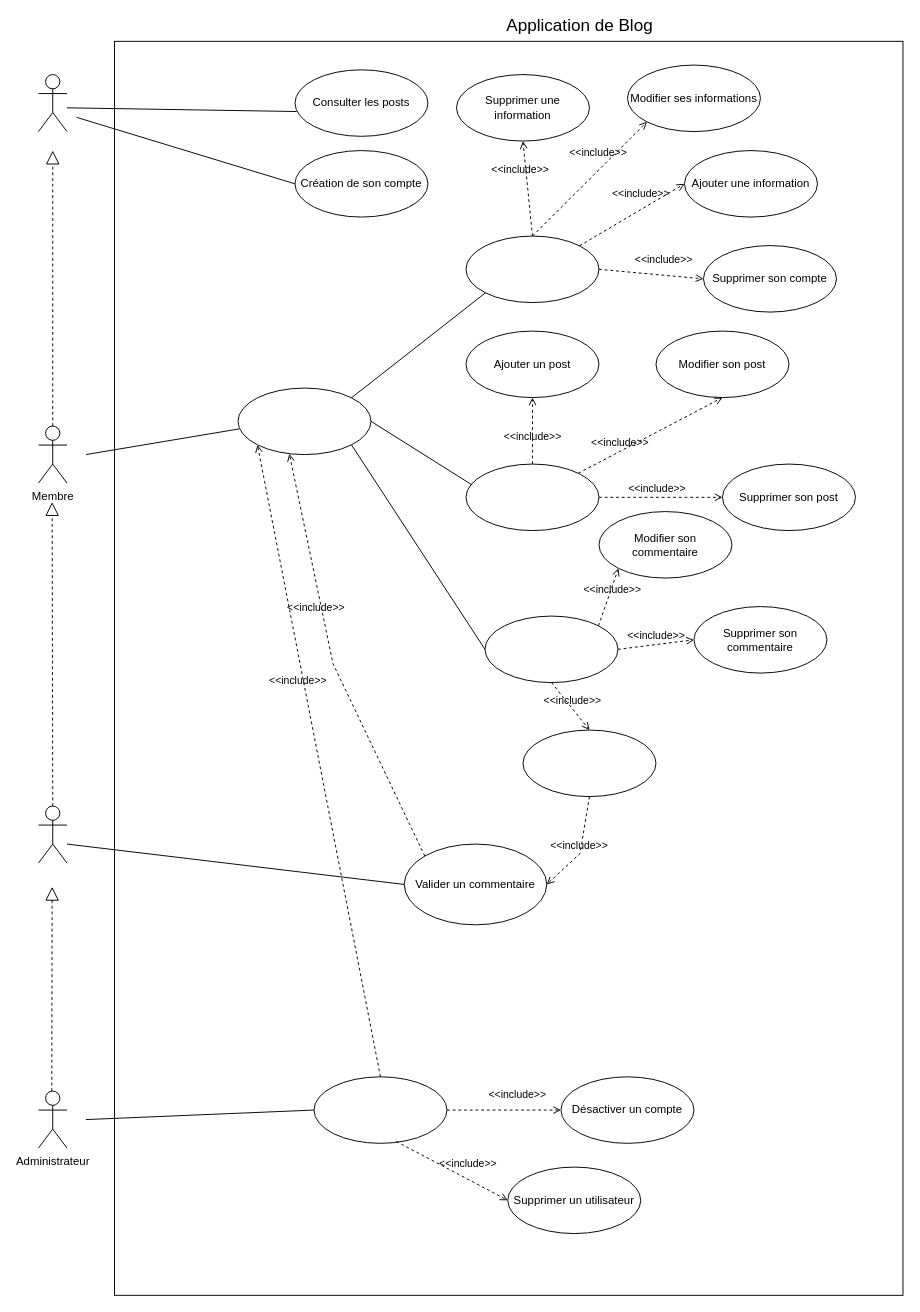
This 920x1312 diagram has some shape labels left out. The box of each missing label's shape, as (x1, y1, x2, y2) in pixels:
Ajouter un commentaire: (522, 729, 656, 797)
Gérer de son compte utilisateur: (465, 235, 599, 303)
Gérer les utilisateurs: (313, 1076, 447, 1143)
Gérer ses commentaires: (484, 615, 618, 683)
Gérer ses posts: (465, 463, 599, 531)
Modérateur: (38, 805, 67, 863)
Se connecter: (237, 387, 371, 455)
Visiteur: (38, 74, 67, 132)
